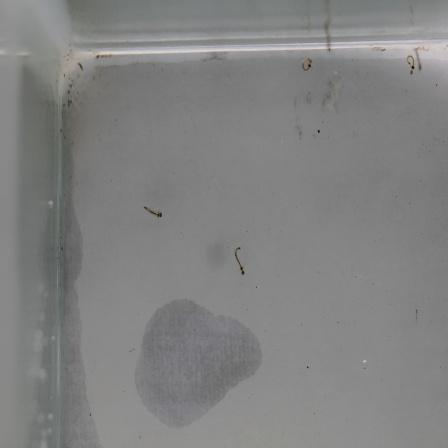Jentik-Nyamuk: (229, 241, 249, 279), (137, 197, 167, 220), (400, 50, 419, 80), (296, 53, 317, 77)
